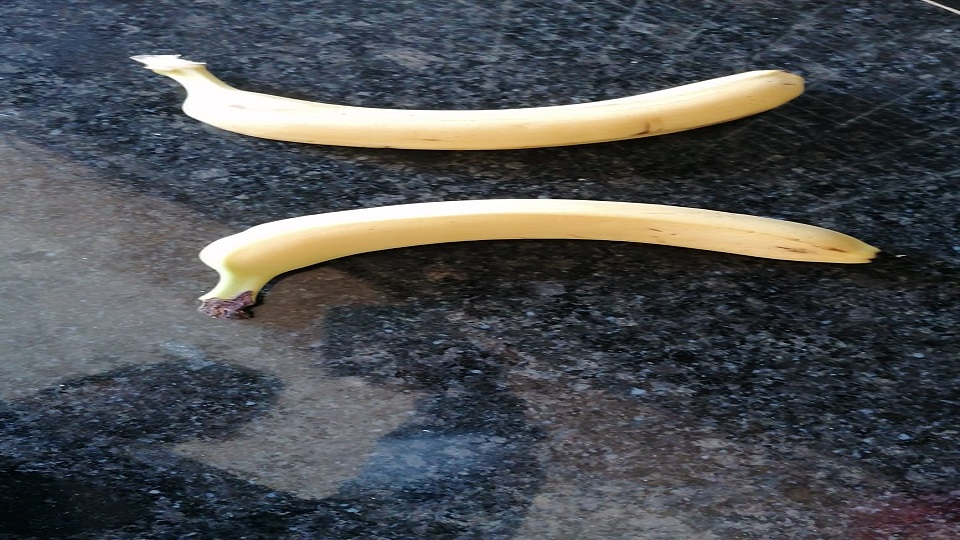muz: (198, 197, 885, 323), (133, 54, 805, 152)
